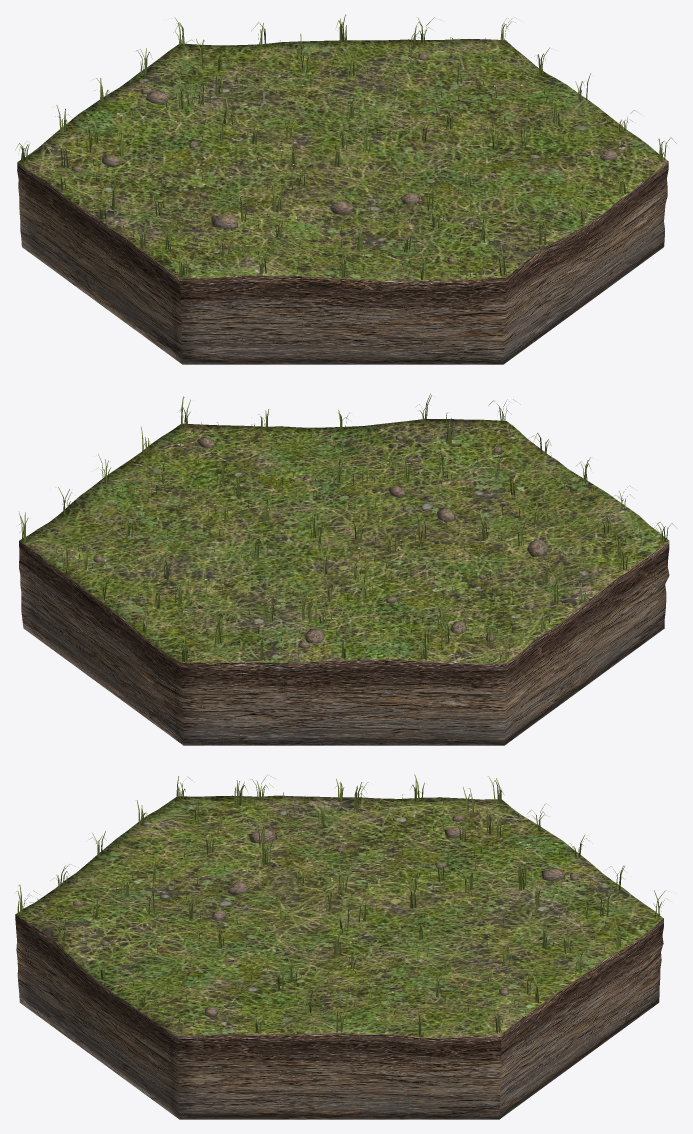
File: terrain-grassland-lod1.glb
The picture shows the model from 3 angles, top to bottom: view 1: azimuth 30°, elevation 25°; view 2: azimuth 150°, elevation 25°; view 3: azimuth 270°, elevation 25°; orthographic projection.
Visible parts, largest first — view 1: terrain_core; view 2: terrain_core; view 3: terrain_core.
Part boxes in pixels (x1,y1,x2,y2): terrain_core: [17, 39, 668, 364]; terrain_core: [19, 419, 669, 745]; terrain_core: [15, 795, 663, 1119].
Bounding box in the file's own units: 2.04 × 0.4471 × 2.3.
8 materials, 2 textured.
